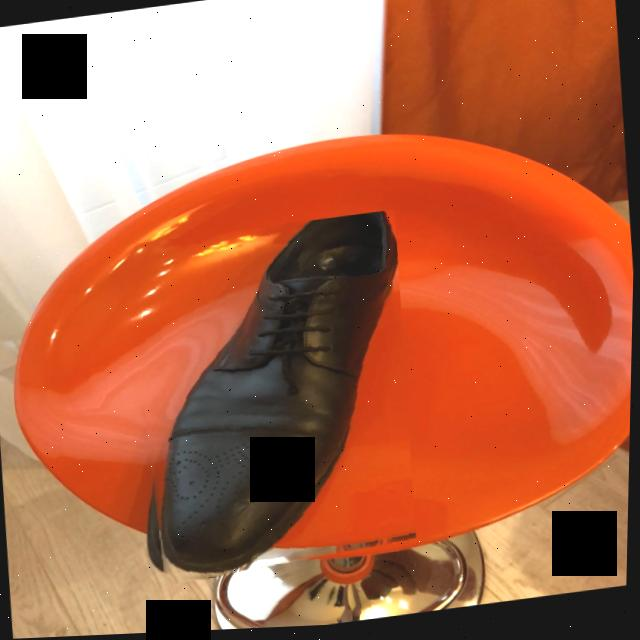shoe: (159, 214, 400, 580)
